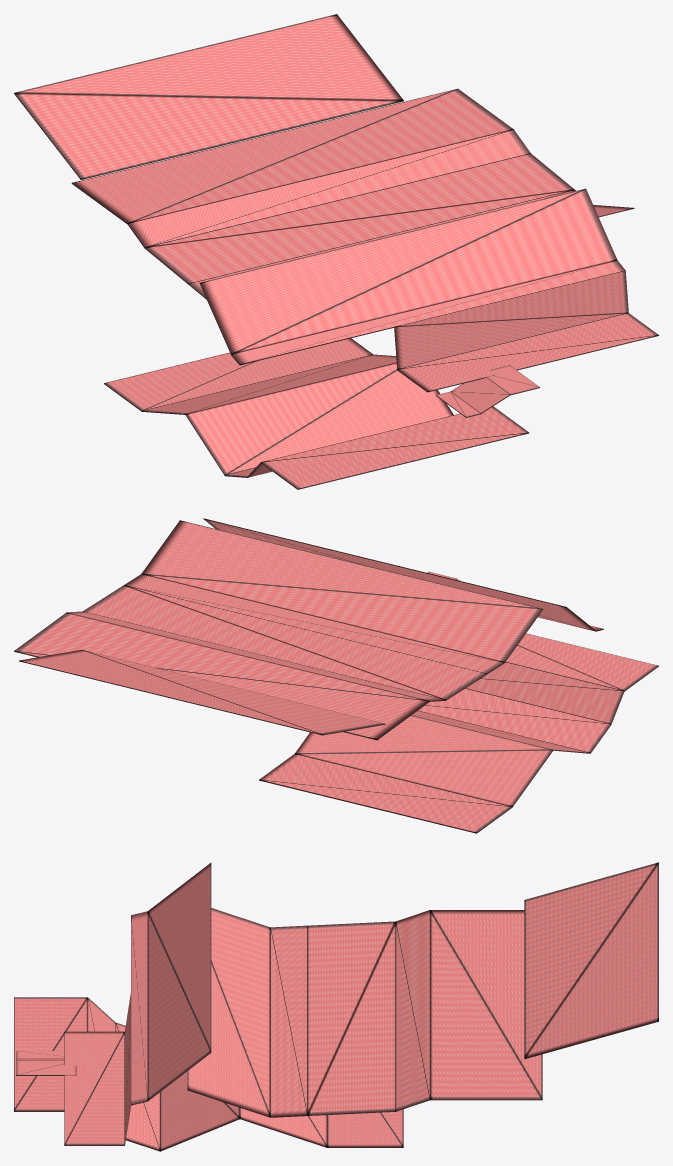
File: Killplanes.obj
3 views of the same model, one above another, from view 1: azimuth 30°, elevation 25°; view 2: azimuth 150°, elevation 25°; view 3: azimuth 270°, elevation 25° (orthographic). The views are drawn at different scales.
Bounding box in the file's own units: 16414 × 7147 × 21548.
Materials: 1 (1 with a texture image).
